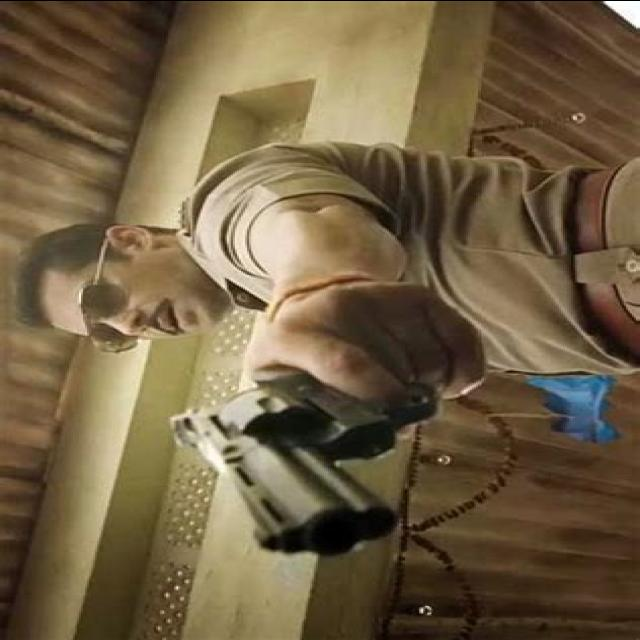weapons: (154, 346, 528, 564)
